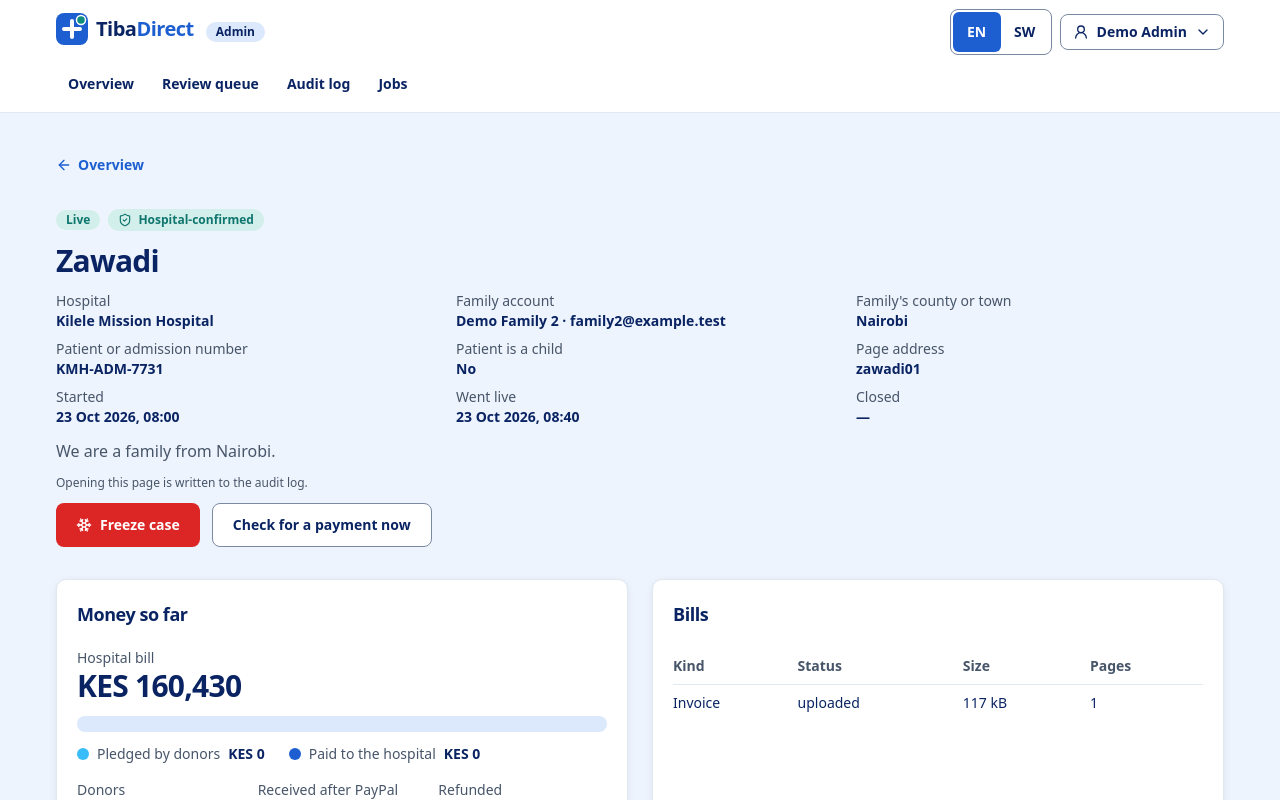
Test: admin case detail › keeps the freeze dialog open and explains when the case cannot be frozen
The width and height of the screenshot is (1280, 800).
Click the button "Freeze case" at (128, 525), box [56, 503, 200, 547]
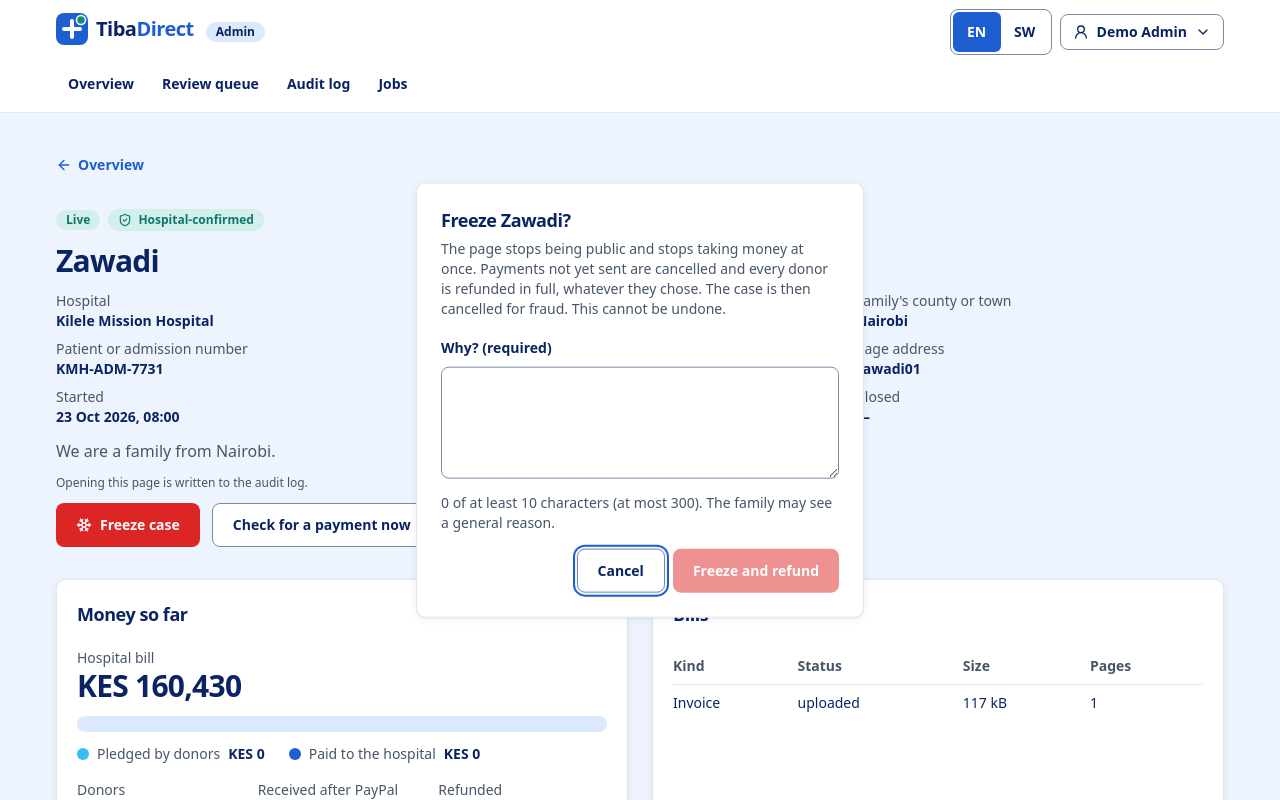
Type "Suspected fraud, see review item" into the text box labelled "Why? (required)" at (640, 422), box [441, 366, 839, 478]
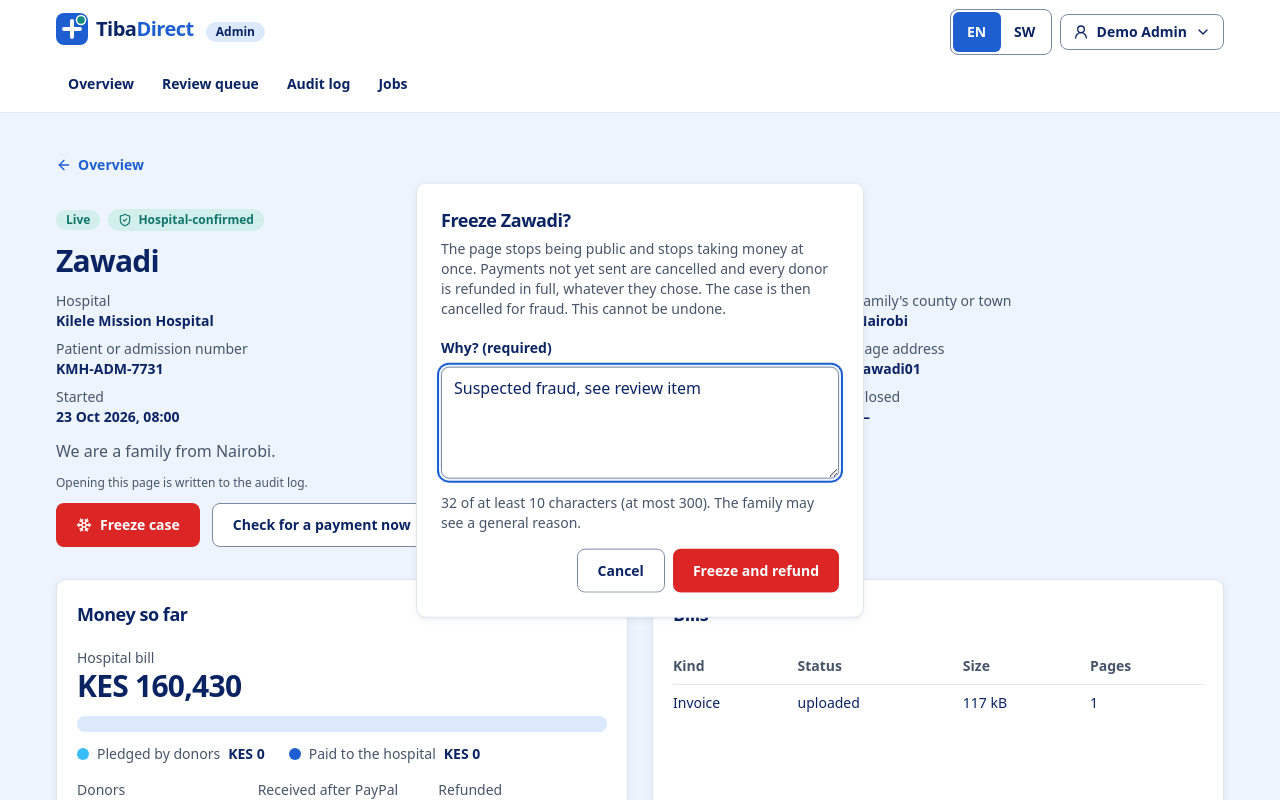
Click the button "Freeze and refund" at (756, 570), box [673, 548, 839, 592]
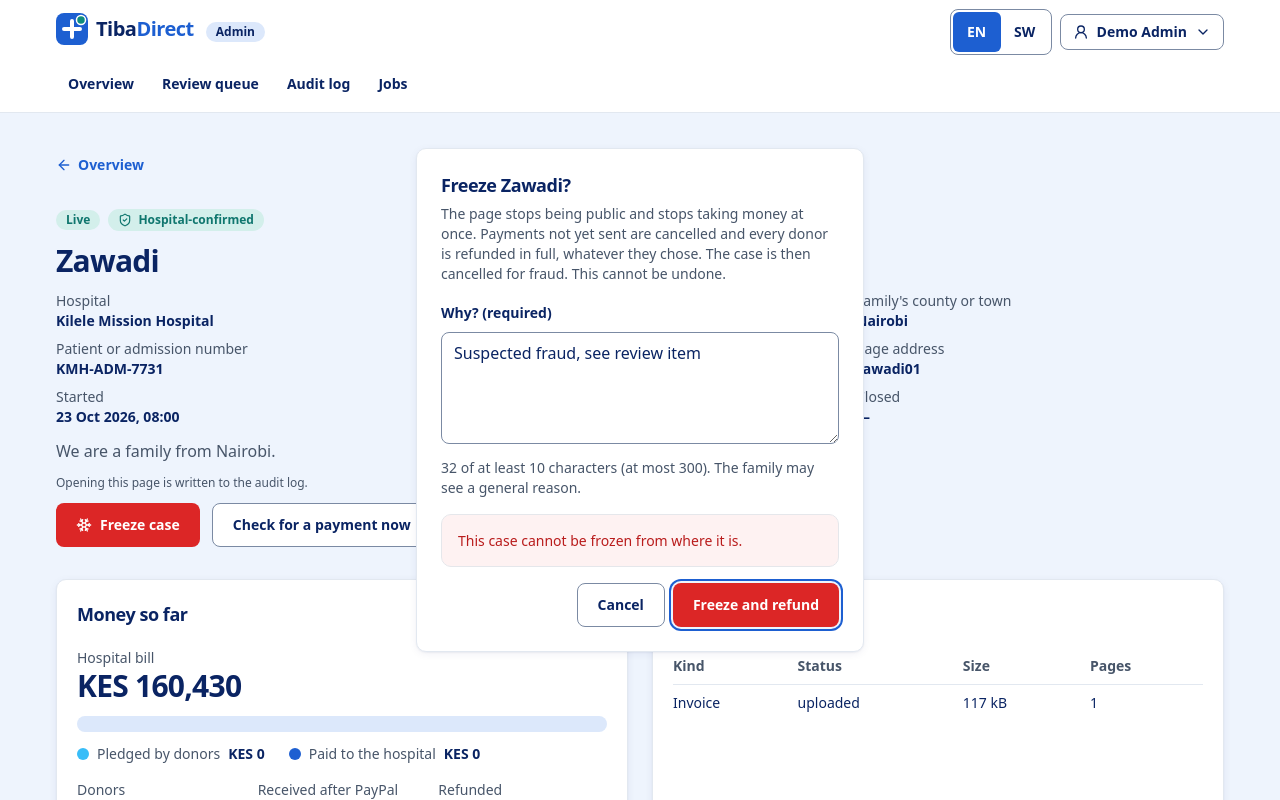
Now the text "This case cannot be frozen from where it is." is shown, box [458, 531, 742, 550]
